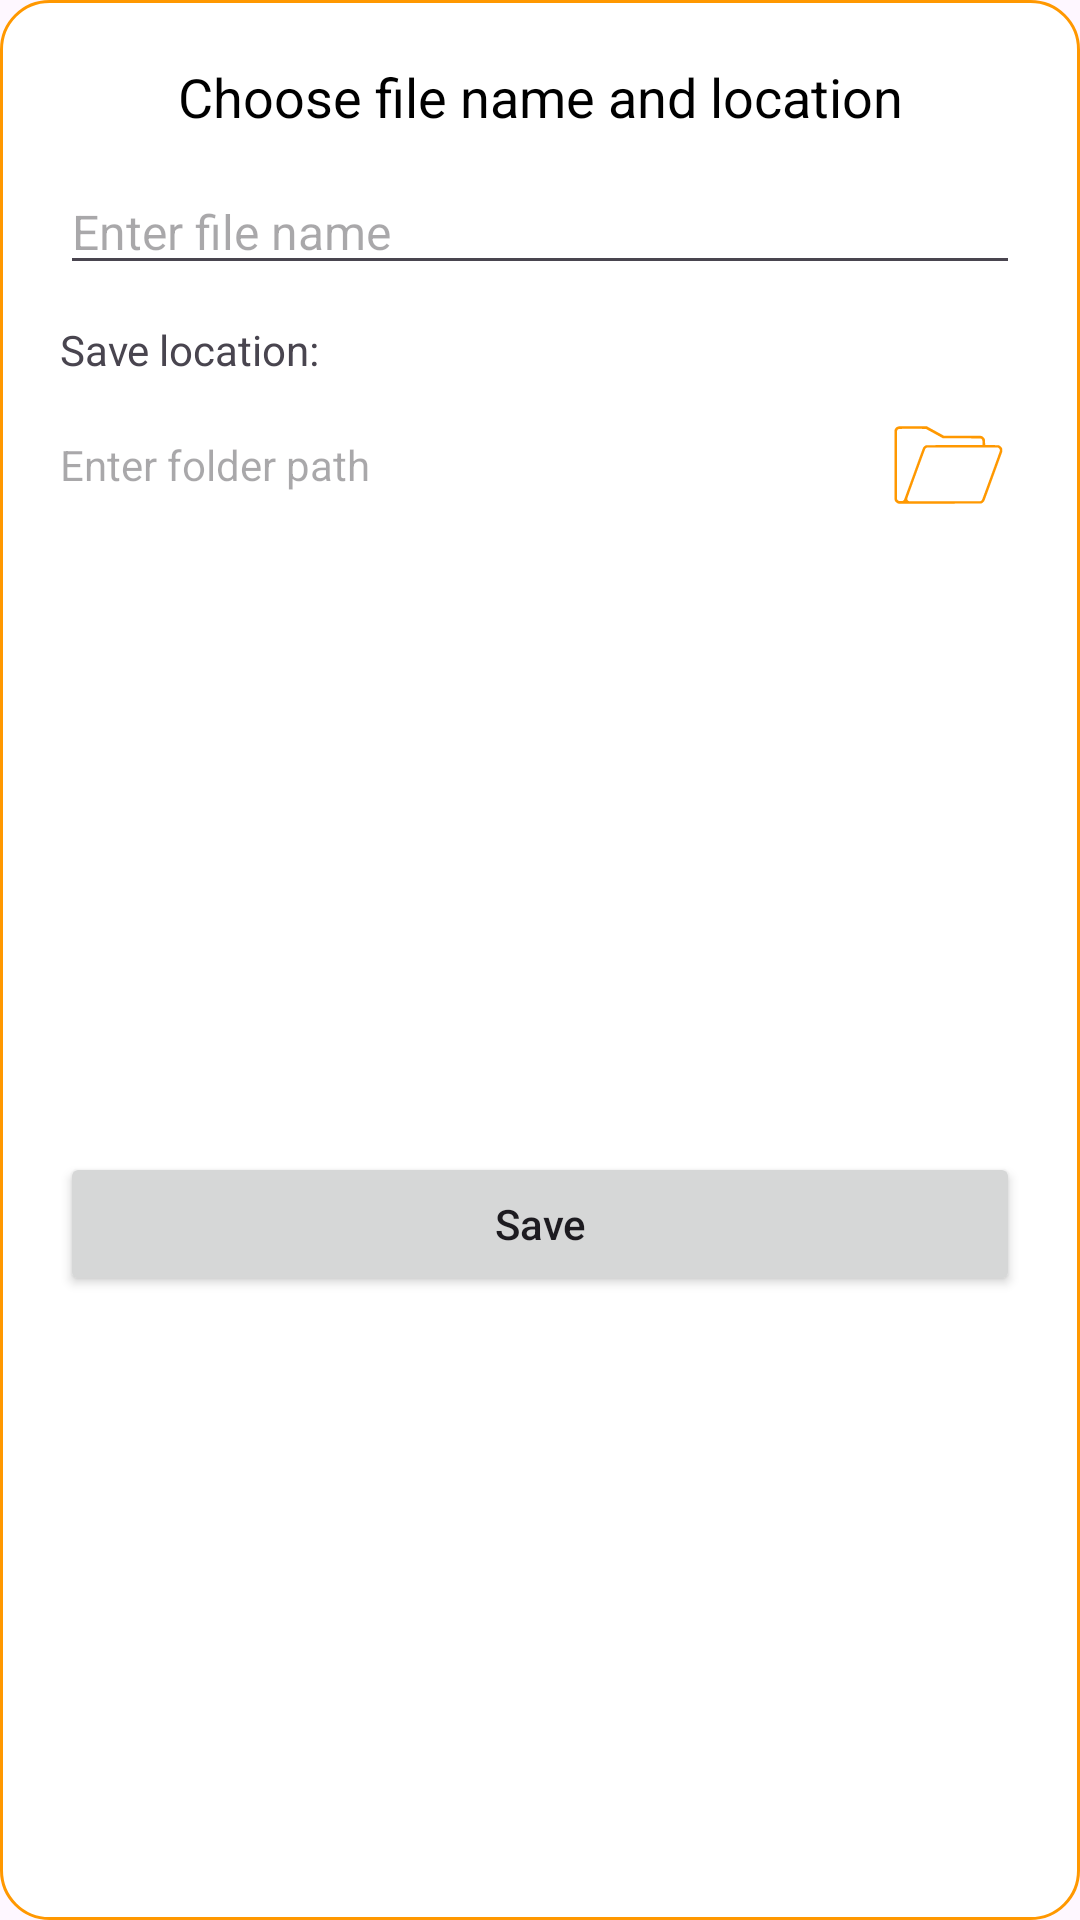

Named icons in this screenshot (1080px×1920px) and their centers, (x=x, y=y):
Select folder: (x=948, y=465)
